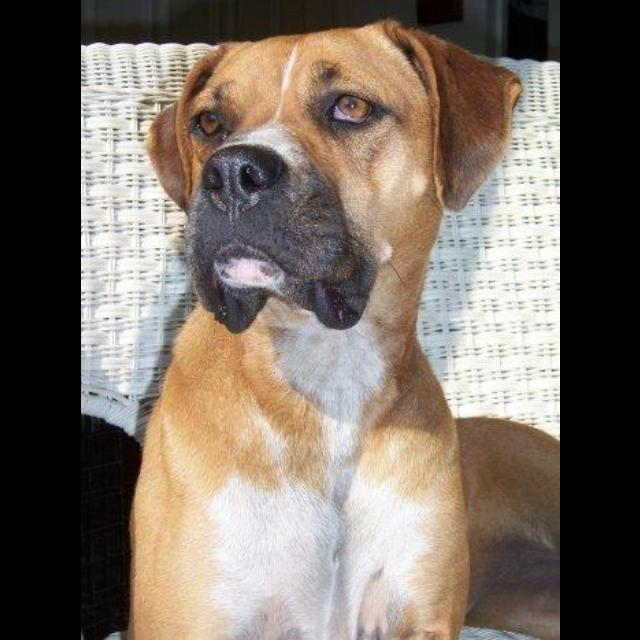amstaff: (123, 18, 560, 640)
